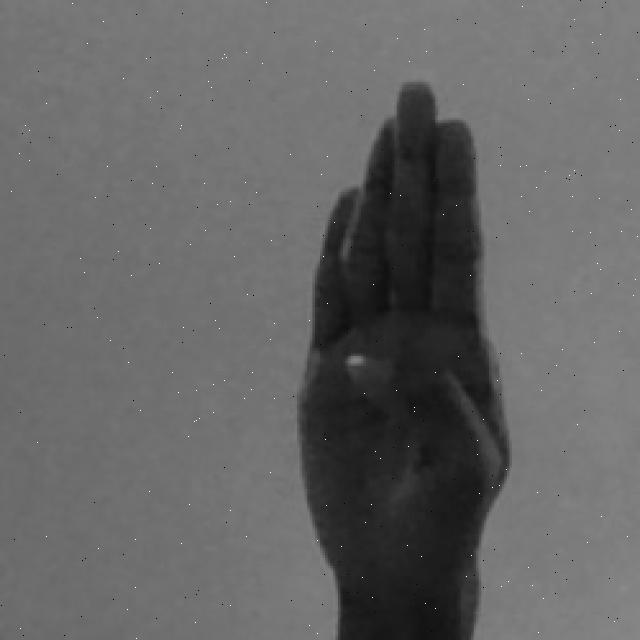B: (289, 74, 513, 640)
